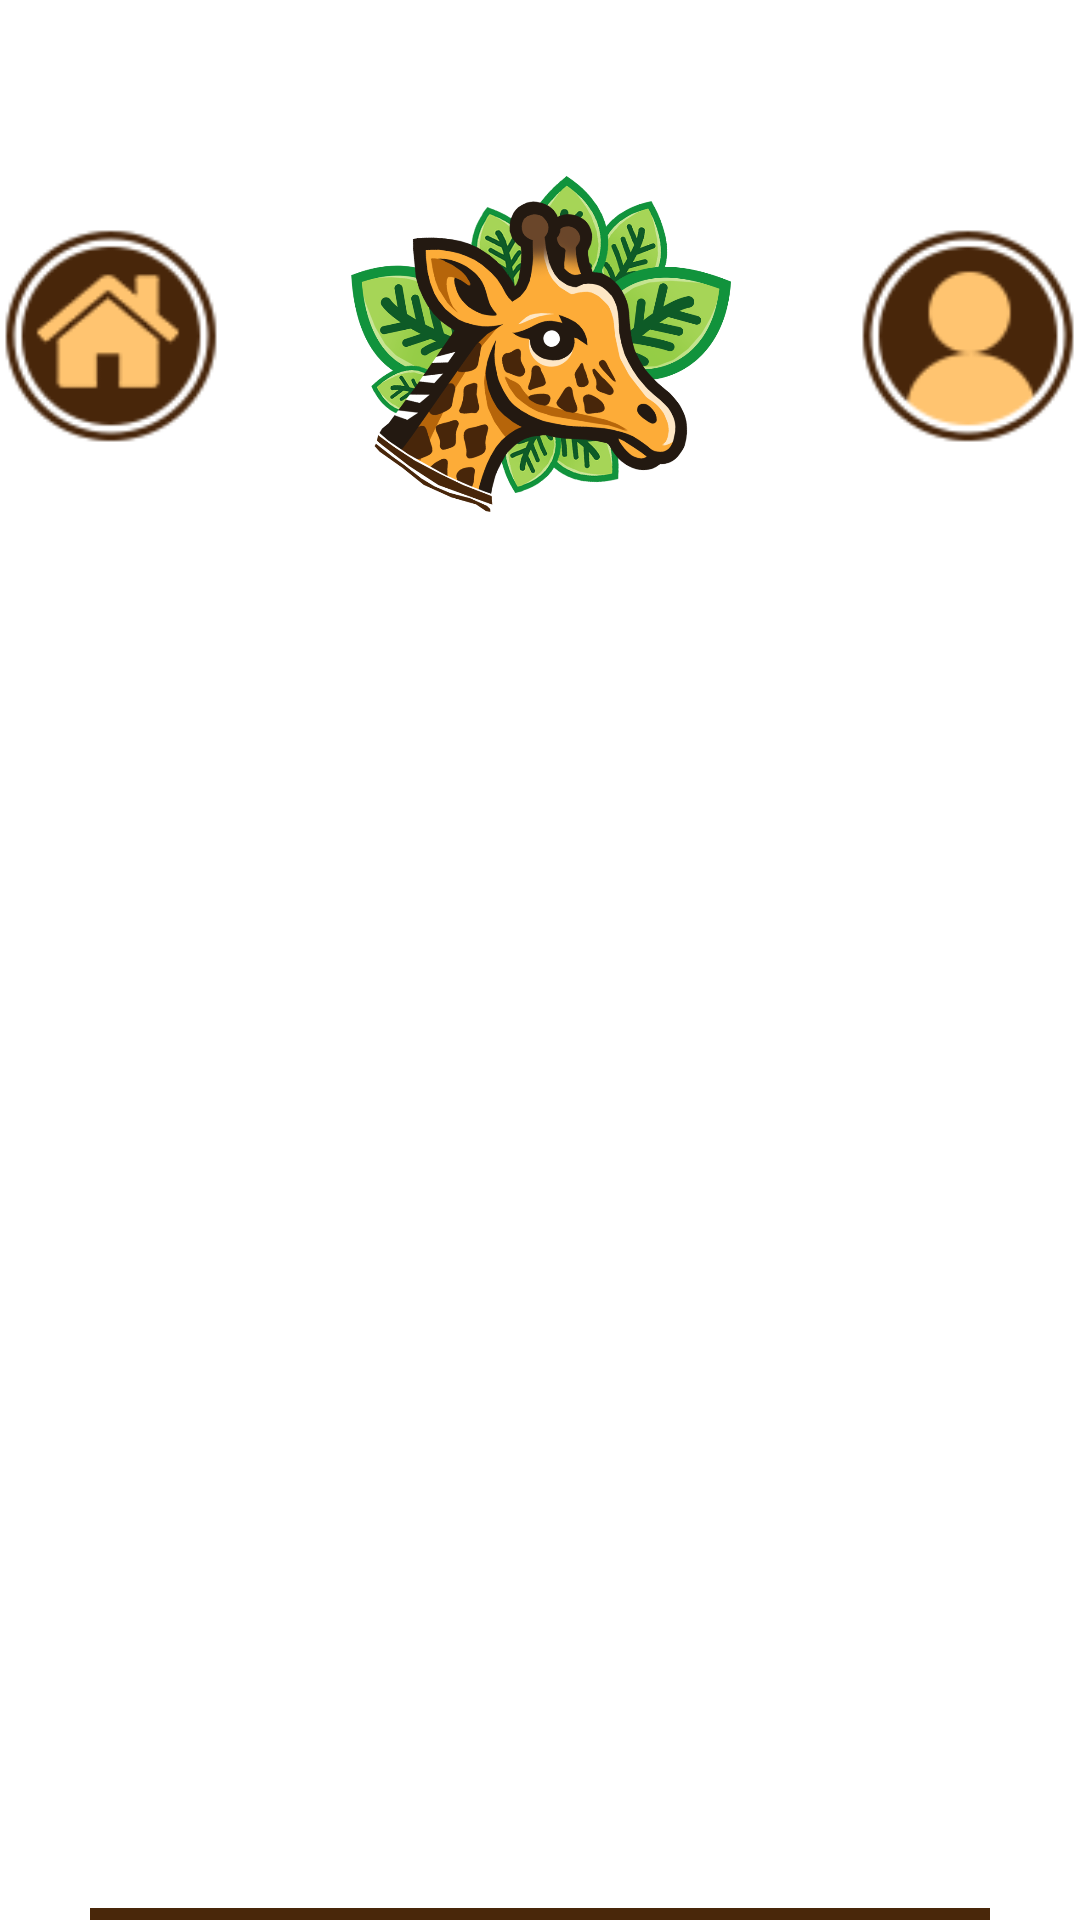

Icons on this 1080*1920 Android screen, each with the point to tap as point (x, y):
Home: point (111, 336)
User: point (968, 336)
